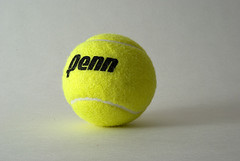tennis ball: (61, 33, 157, 127)
